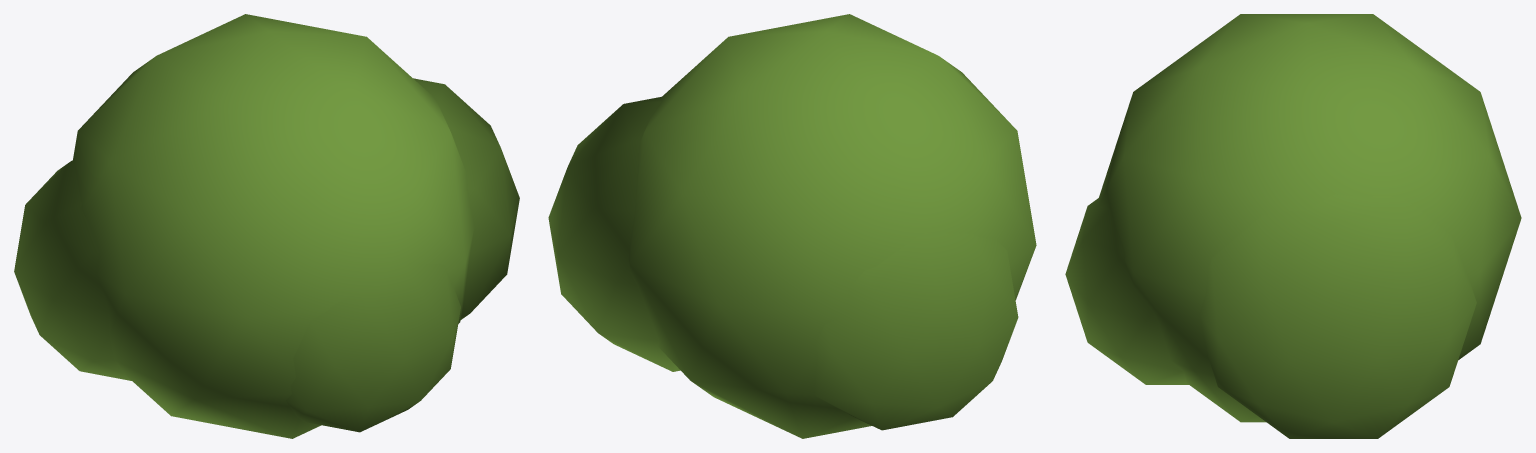
The model's file is bush.glb.
3 renders of one model, left to right at view 1: azimuth 30°, elevation 25°; view 2: azimuth 150°, elevation 25°; view 3: azimuth 270°, elevation 25°, orthographic.
Visible parts, largest first — view 1: Canopy; view 2: Canopy; view 3: Canopy.
Boxes of the visible parts, x1,y1,x2,y2 form: Canopy: [14, 14, 519, 438]; Canopy: [548, 14, 1036, 438]; Canopy: [1065, 14, 1521, 438].
Size of the model in its own units: 1.15 by 0.96 by 1.02.
